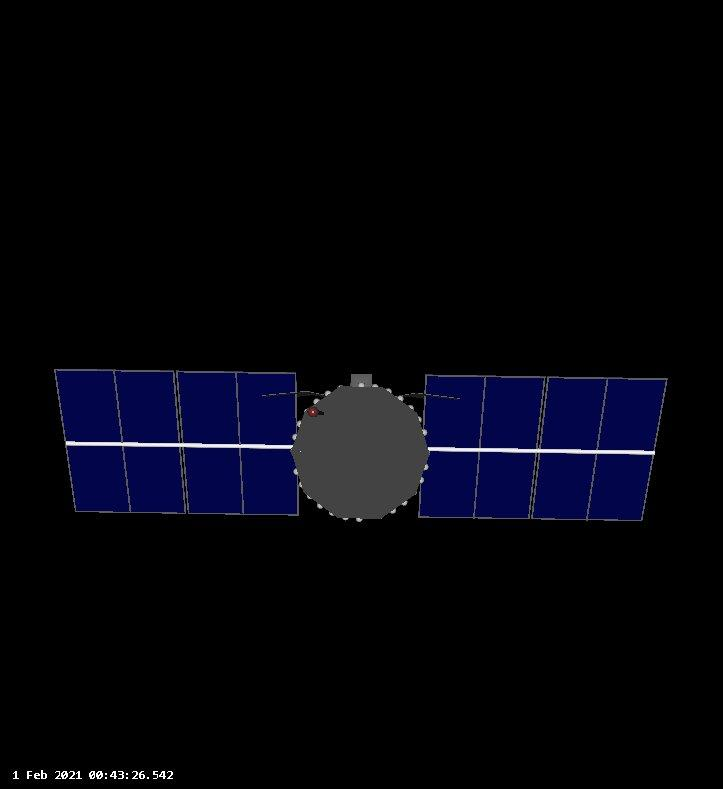body: (287, 367, 433, 526)
solar: (414, 371, 673, 522), (49, 366, 303, 518)
